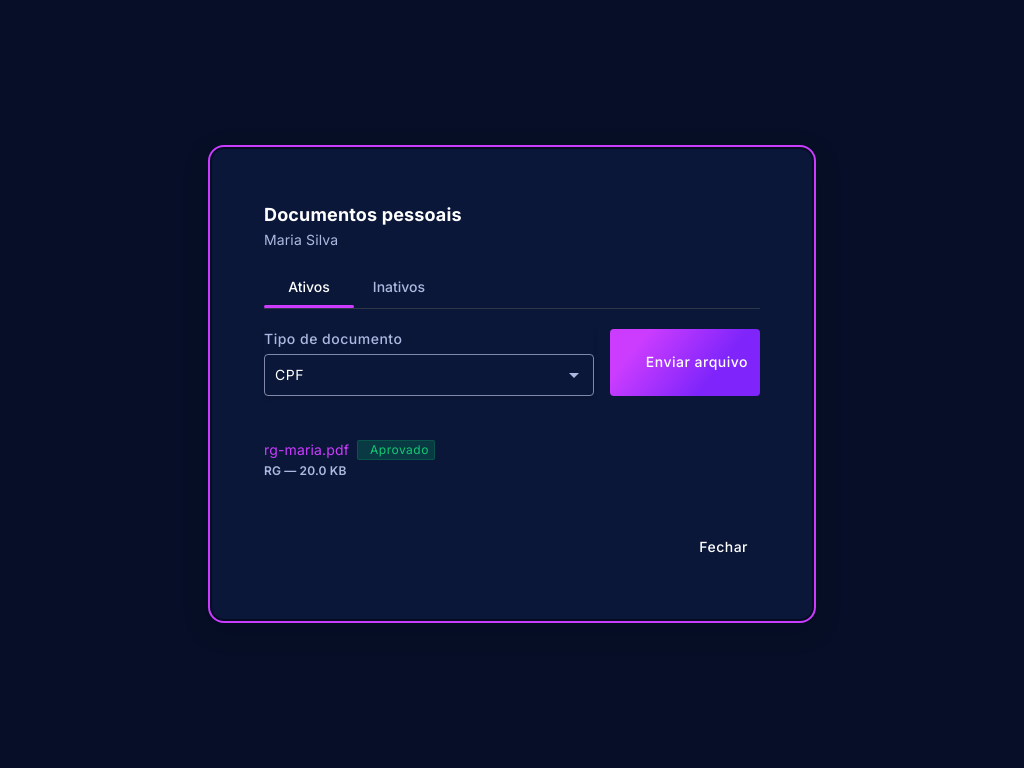
Scenario: PersonDocumentsDialog › inactivating a document (BR-ARC14) › lists the inactive documents of a Guardian with who inactivated them and when
Check: the link "rg-maria.pdf" is shown, box [264,440,349,460]
Click the tab "Inativos".
click(399, 287)  # box [354,266,444,308]
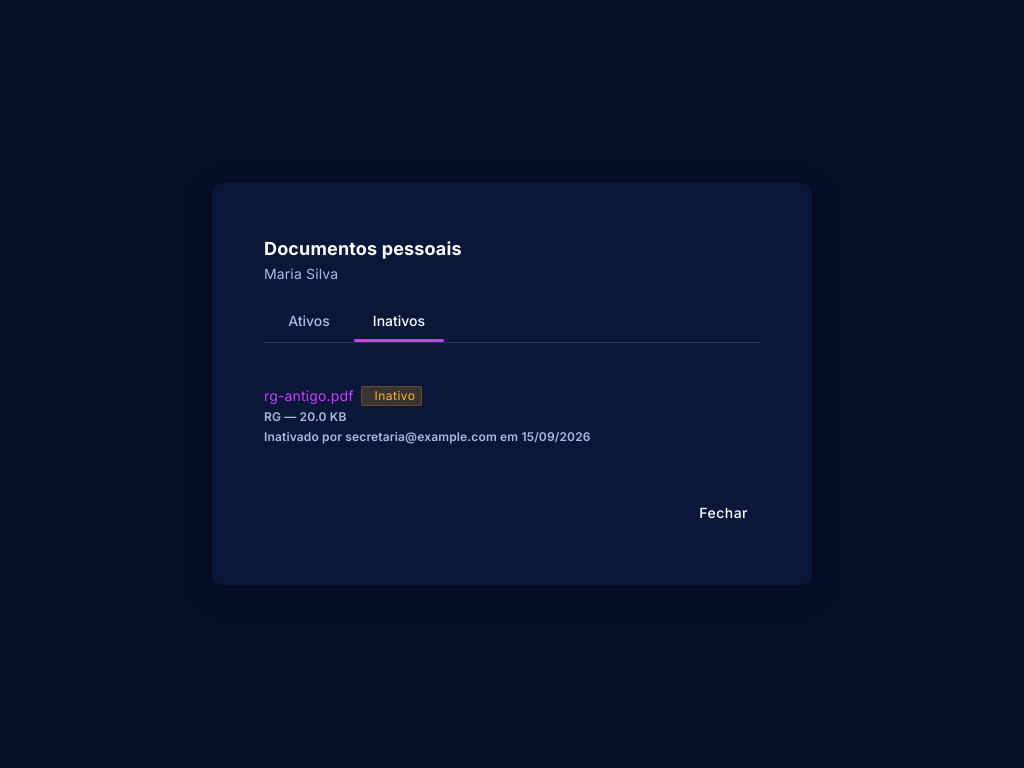
Check: the link "rg-maria.pdf" is gone
Check: the text "Inativado por secretaria@example.com em 15/09/2026" is shown, box [264,429,591,444]
Check: the text "Inativo" is shown, box [374,387,416,405]
